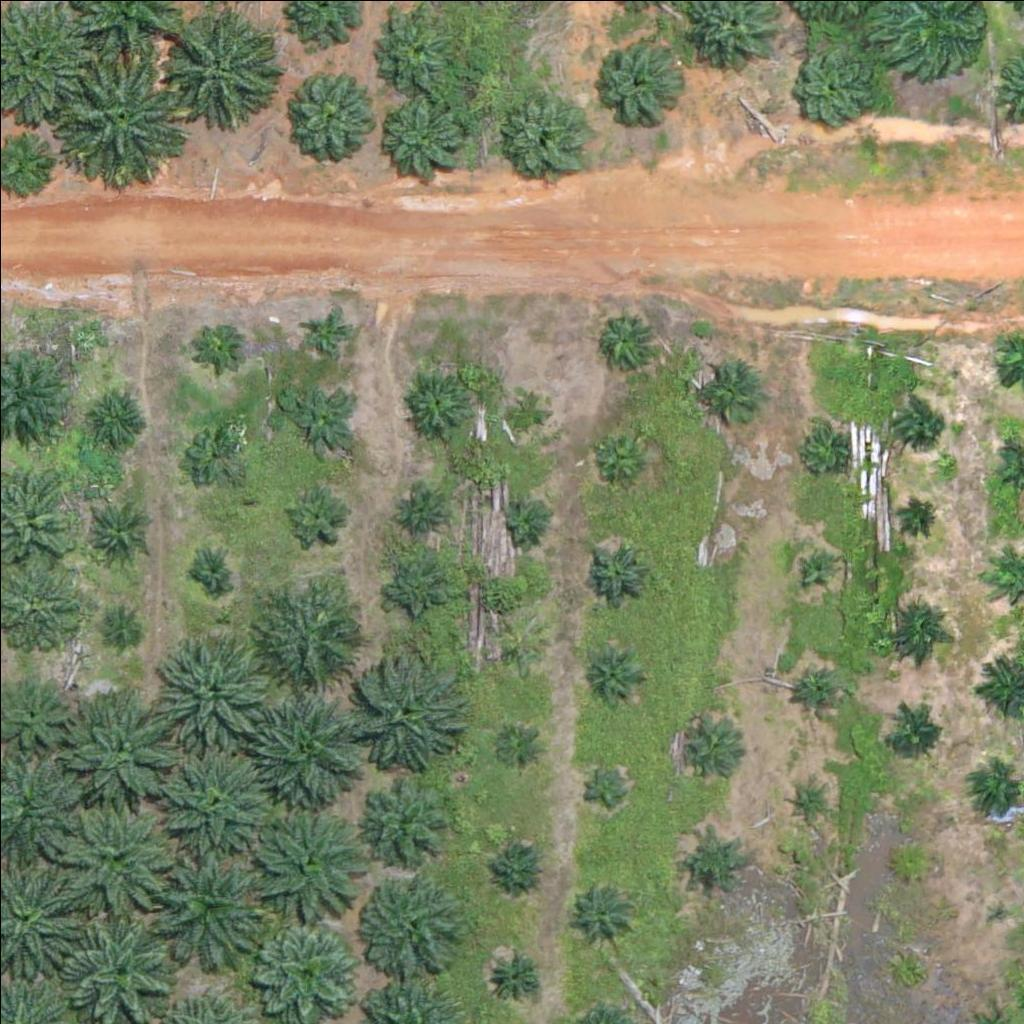Kelapa_Sawit: (57, 45, 182, 171), (141, 841, 266, 967), (343, 647, 468, 773), (158, 745, 271, 859), (248, 800, 361, 914), (160, 637, 273, 750), (247, 695, 360, 808), (256, 580, 369, 693), (68, 699, 180, 813), (57, 802, 169, 915), (280, 65, 380, 166), (360, 879, 460, 980), (169, 12, 269, 112), (503, 93, 591, 181), (362, 775, 450, 863), (366, 7, 453, 95), (378, 90, 465, 178), (591, 33, 678, 121), (787, 37, 874, 125), (689, 355, 764, 431), (400, 366, 475, 441), (284, 384, 359, 459), (671, 717, 734, 780), (682, 833, 745, 896), (584, 645, 647, 708), (584, 540, 647, 603), (591, 308, 654, 371), (83, 381, 146, 444), (188, 426, 251, 489), (591, 426, 654, 489), (483, 944, 546, 1007), (882, 599, 944, 662), (883, 699, 945, 762), (573, 883, 635, 946), (385, 553, 447, 616), (281, 484, 343, 547), (487, 832, 549, 895), (195, 316, 245, 367), (391, 487, 441, 538), (302, 307, 352, 358), (493, 727, 543, 778), (494, 630, 544, 681), (504, 501, 554, 552), (578, 765, 628, 816), (894, 394, 944, 444), (794, 427, 844, 477), (93, 509, 143, 559), (500, 386, 550, 436), (792, 668, 842, 718), (97, 610, 135, 648), (787, 782, 825, 820), (797, 544, 835, 582), (890, 842, 928, 880), (193, 548, 230, 586), (903, 493, 940, 531), (983, 901, 1008, 926)
